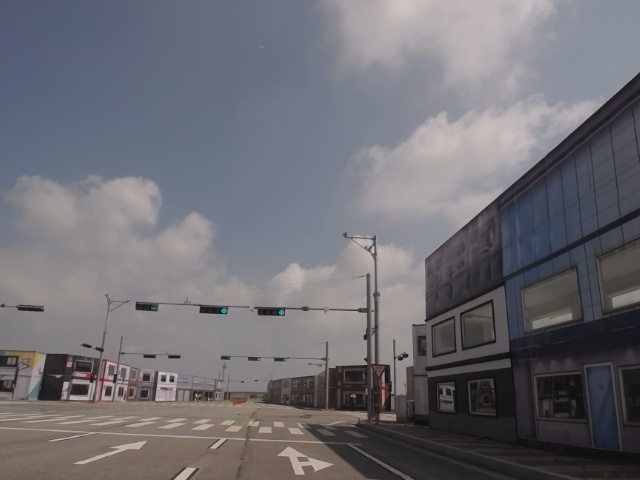straight_green_4: (199, 306, 229, 315), (258, 308, 286, 316)
